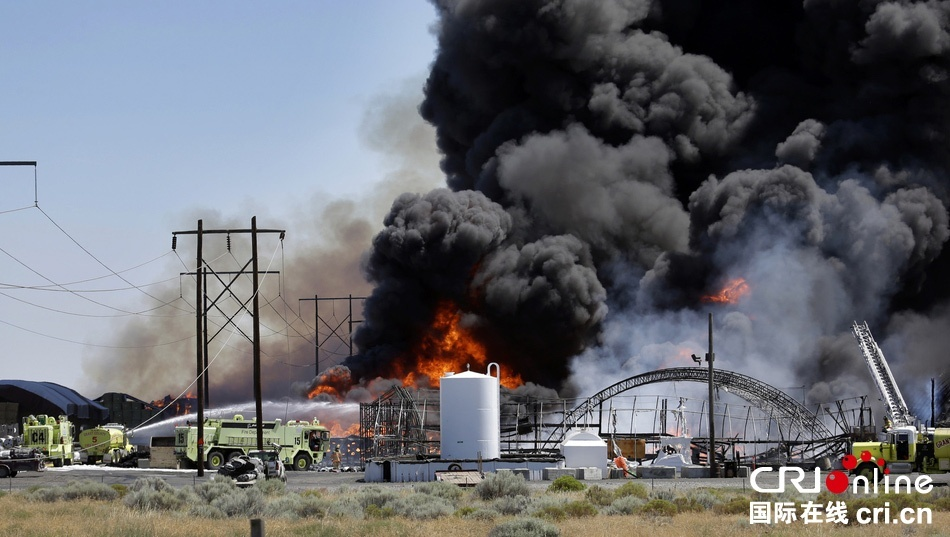fire: (307, 310, 515, 392), (708, 274, 748, 303)
